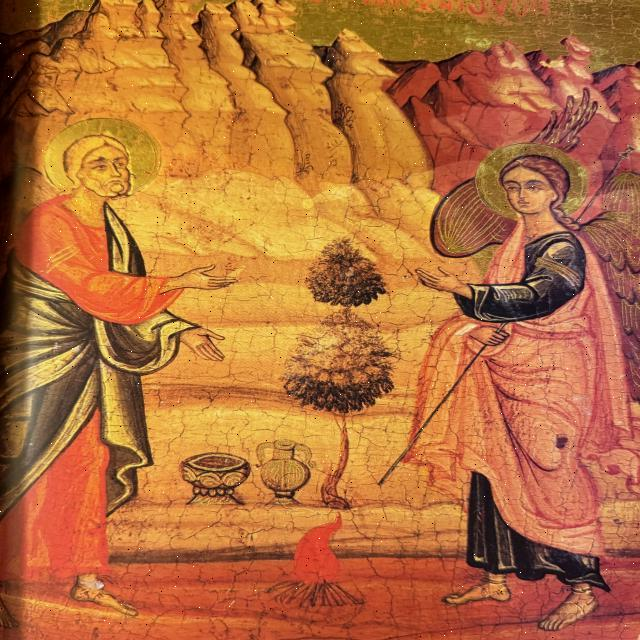angel: (409, 142, 640, 640)
aura: (44, 117, 166, 201), (475, 145, 589, 221)
basin: (176, 449, 246, 506)
saint: (1, 108, 235, 628)
vase: (251, 439, 324, 505)
wing: (431, 176, 511, 255), (601, 168, 640, 227)
